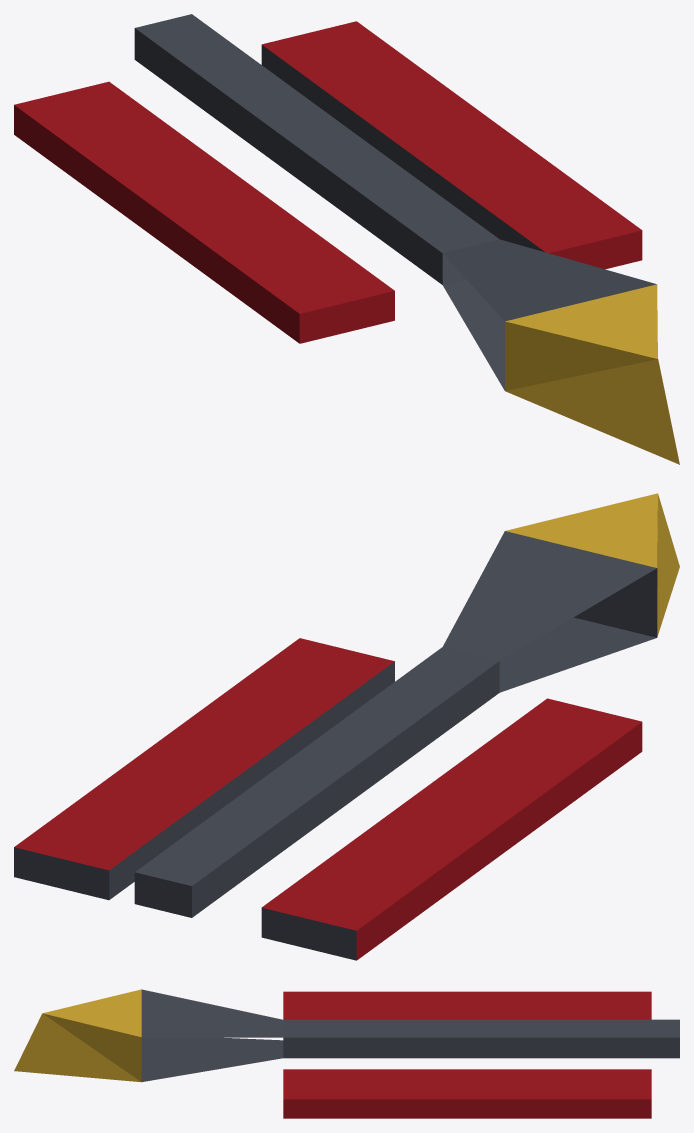
The model's file is corvette.obj.
3 views of the same model, one above another, from view 1: azimuth 30°, elevation 25°; view 2: azimuth 150°, elevation 25°; view 3: azimuth 270°, elevation 25° (orthographic). The views are drawn at different scales.
Bounding box in the file's own units: 180 × 45 × 470.
